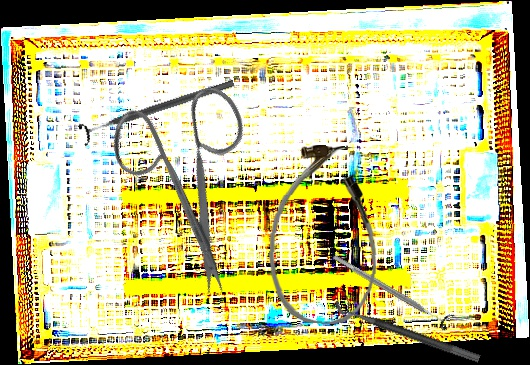Cannula: (265, 142, 383, 327)
Fixation Ring: (77, 71, 238, 148), (332, 290, 486, 364), (328, 247, 456, 333)
Iris Scissors: (68, 52, 322, 302)
